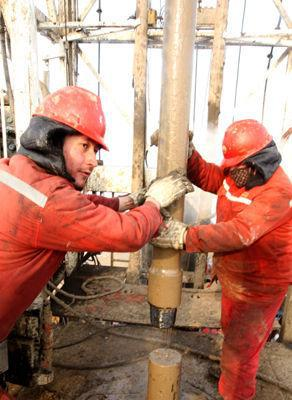helmet: (20, 69, 120, 193), (213, 107, 285, 193)
